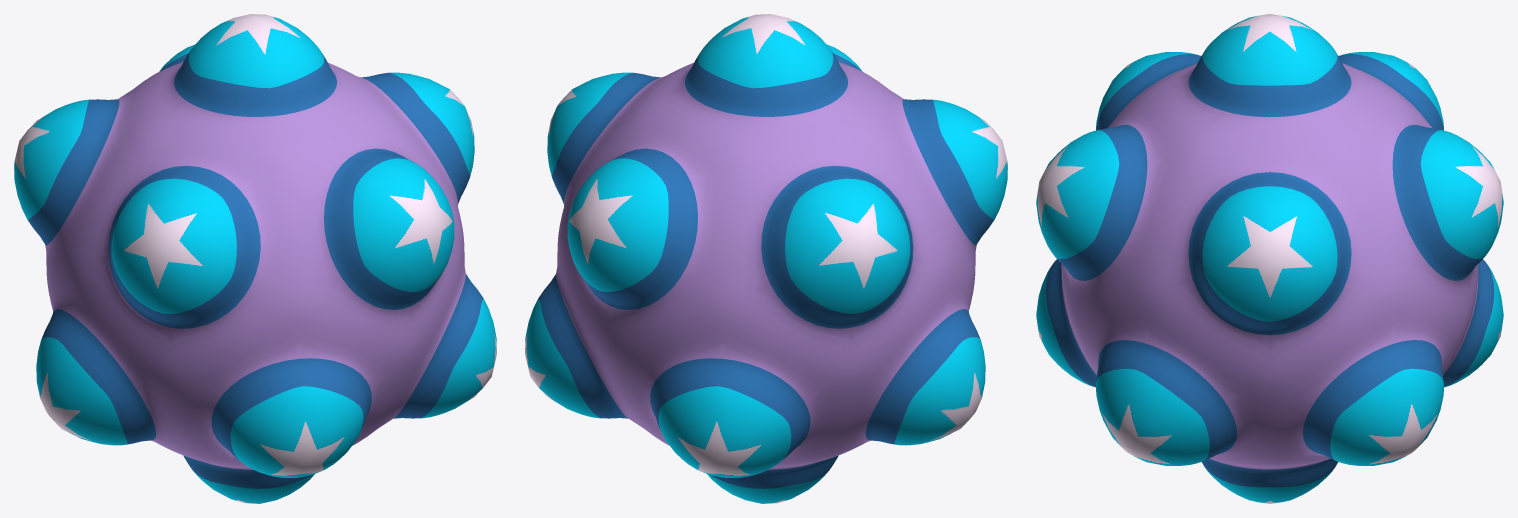
Rendered from katamari.gltf.
3 views of the same model, side by side, from view 1: azimuth 30°, elevation 25°; view 2: azimuth 150°, elevation 25°; view 3: azimuth 270°, elevation 25° (orthographic).
Parts seen in each view (by area): view 1: Icosphere; view 2: Icosphere; view 3: Icosphere.
Boxes of the visible parts, x1=… form: Icosphere: x1=14, y1=14, x2=496, y2=503; Icosphere: x1=525, y1=14, x2=1007, y2=503; Icosphere: x1=1036, y1=14, x2=1503, y2=503.
Size of the model in its own units: 0.8553 by 0.935 by 0.8243.
Materials: 1 (1 with a texture image).
